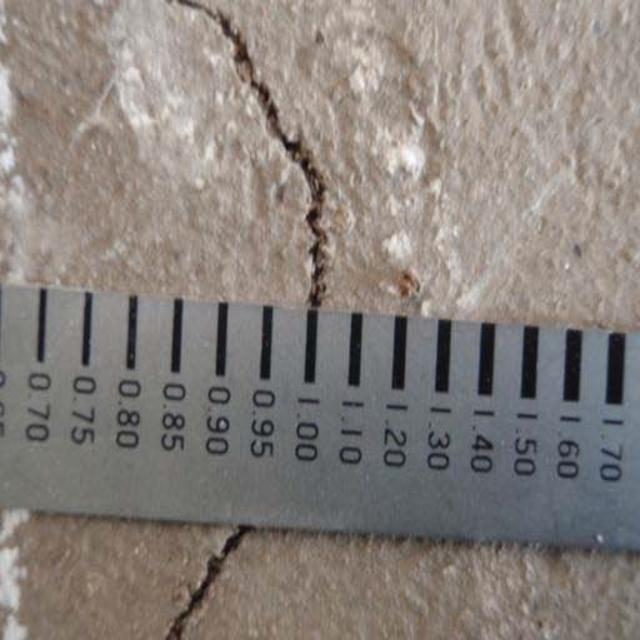crack: (174, 3, 349, 318), (130, 525, 270, 640)
